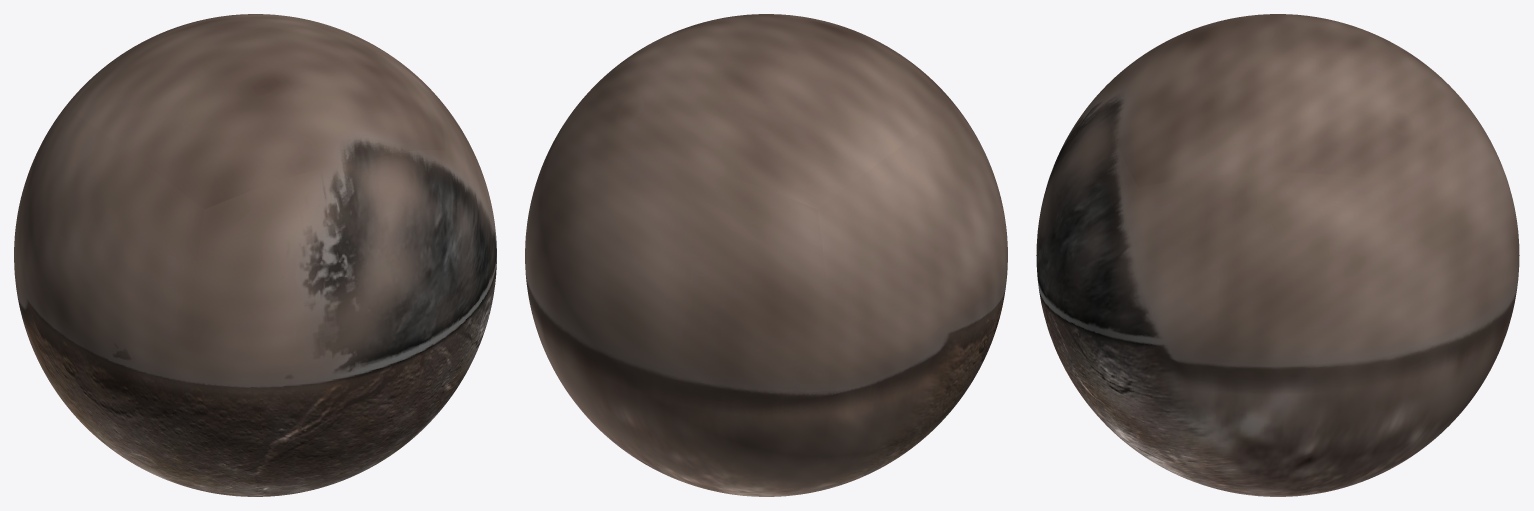
Rendered from titania.glb.
3 renders of one model, left to right at view 1: azimuth 30°, elevation 25°; view 2: azimuth 150°, elevation 25°; view 3: azimuth 270°, elevation 25°, orthographic.
Visible parts, largest first — view 1: titania_globe; view 2: titania_globe; view 3: titania_globe.
Boxes of the visible parts, <box> form: titania_globe: <box>14,14,496,496</box>; titania_globe: <box>525,14,1007,496</box>; titania_globe: <box>1036,14,1519,496</box>.
Bounding box in the file's own units: 2 × 2 × 2.
1 material, 1 textured.
